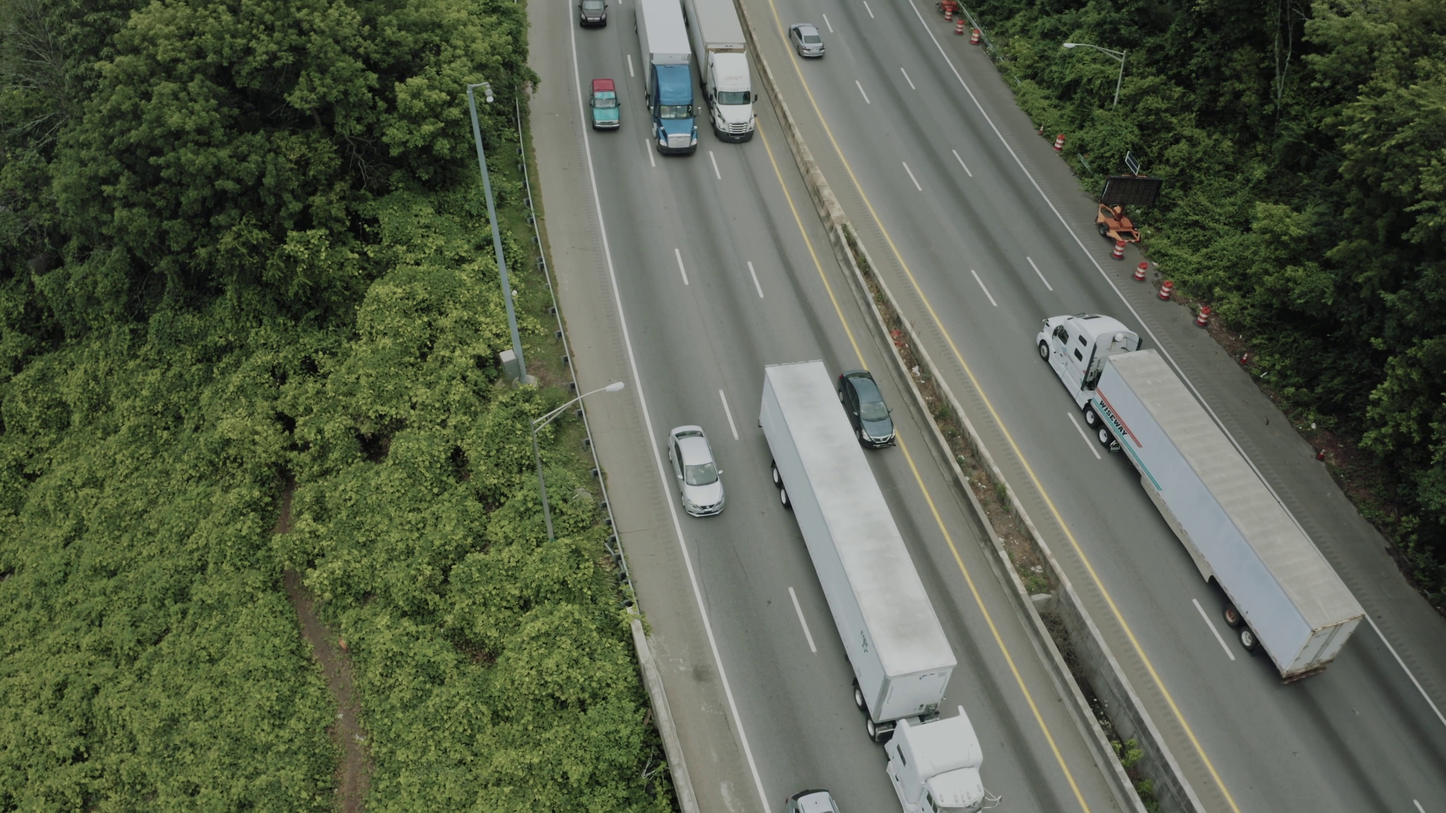Vehicle: (883, 705, 1005, 813), (1036, 308, 1150, 412), (642, 60, 702, 156), (668, 425, 727, 518), (835, 368, 898, 452), (703, 49, 758, 144), (589, 79, 621, 130), (784, 788, 840, 813), (788, 23, 825, 58), (578, 0, 608, 27)
